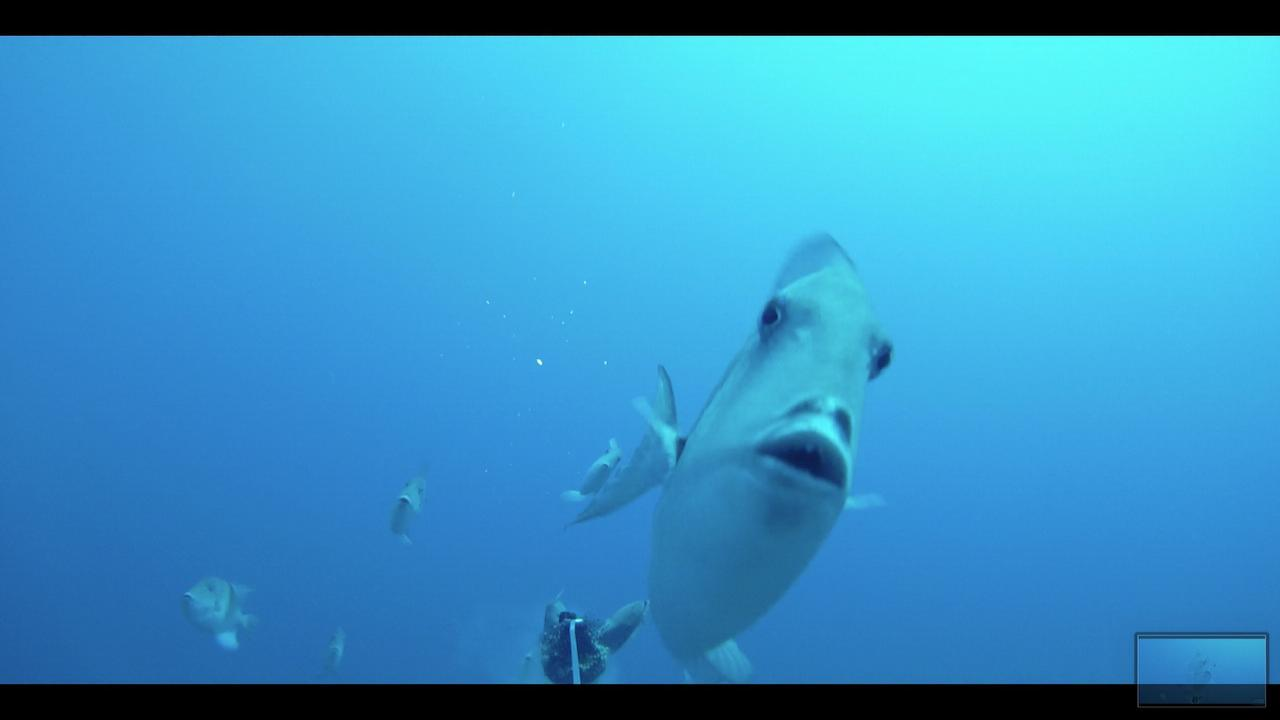balistes: (560, 224, 904, 681), (170, 572, 265, 652), (375, 461, 440, 546)
